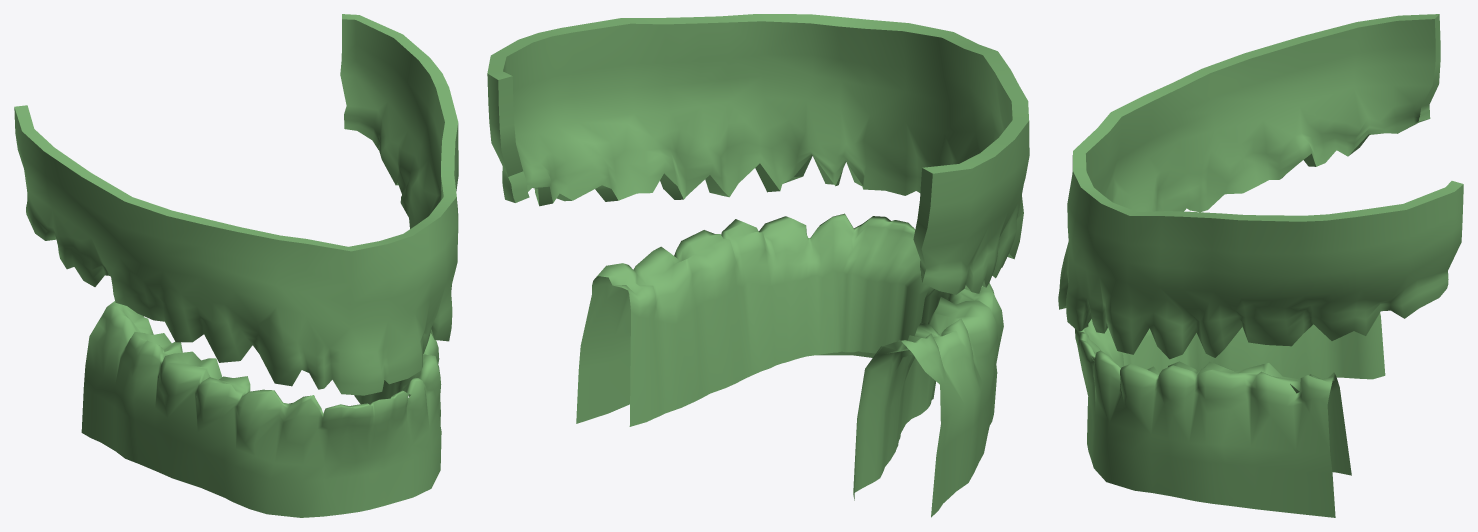
The model's file is tao_Teeth.fbx.
3 views of the same model, side by side, from view 1: azimuth 30°, elevation 25°; view 2: azimuth 150°, elevation 25°; view 3: azimuth 270°, elevation 25° (orthographic). The views are drawn at different scales.
Parts seen in each view (by area): view 1: polySurface8, Low_Lowerjaw; view 2: polySurface8, Low_Lowerjaw; view 3: polySurface8, Low_Lowerjaw.
Boxes of the visible parts, x1,y1,x2,y2 form: polySurface8: (14, 14, 458, 395); Low_Lowerjaw: (81, 301, 441, 517); polySurface8: (487, 14, 1029, 294); Low_Lowerjaw: (576, 213, 1003, 517); polySurface8: (1058, 14, 1463, 359); Low_Lowerjaw: (1075, 313, 1385, 517).
Size of the model in its own units: 0.9283 by 0.753 by 0.8132.
